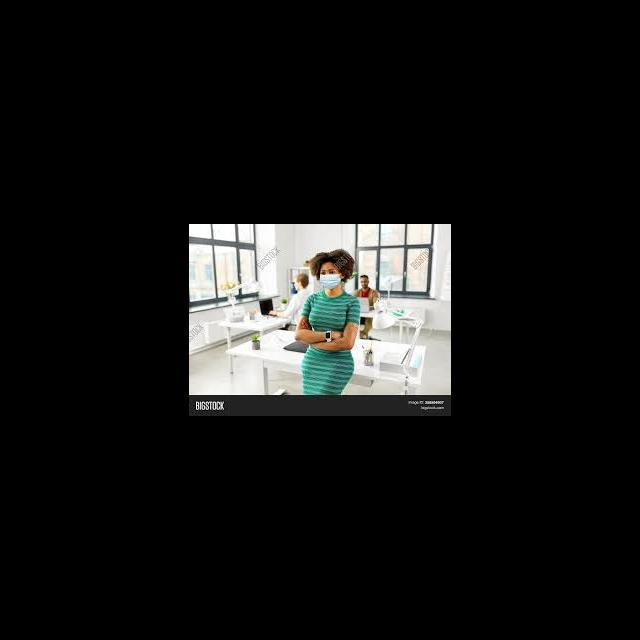watch: (322, 323, 345, 352)
